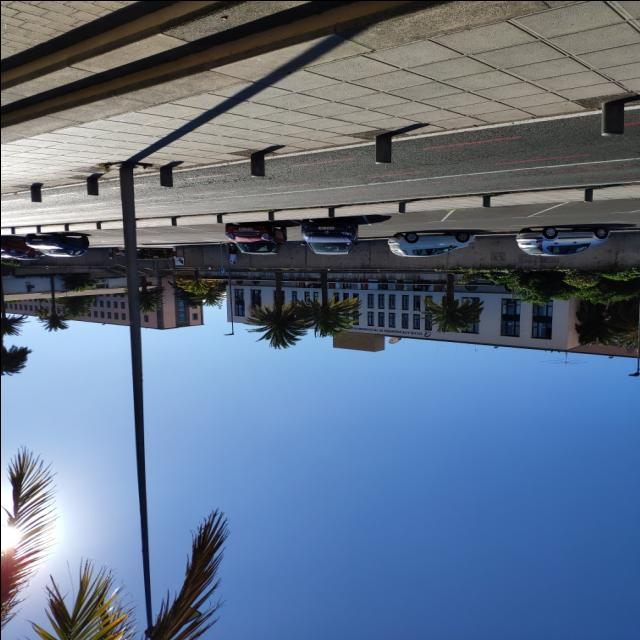Palm-Trees: (245, 270, 308, 350), (294, 272, 356, 338), (420, 271, 480, 333), (35, 276, 71, 332)
